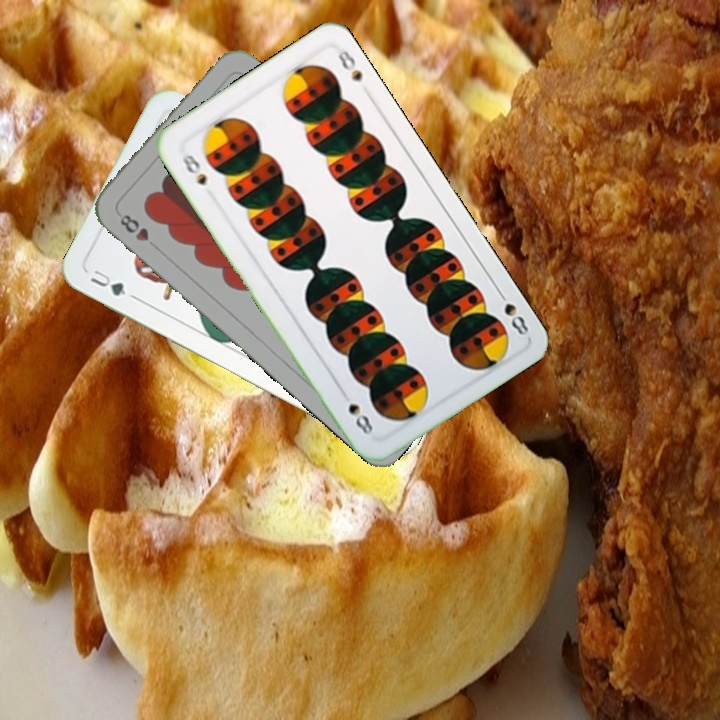GU: (86, 265, 129, 299)
H8: (115, 210, 162, 253)
S8: (493, 285, 532, 339), (178, 150, 210, 189)
